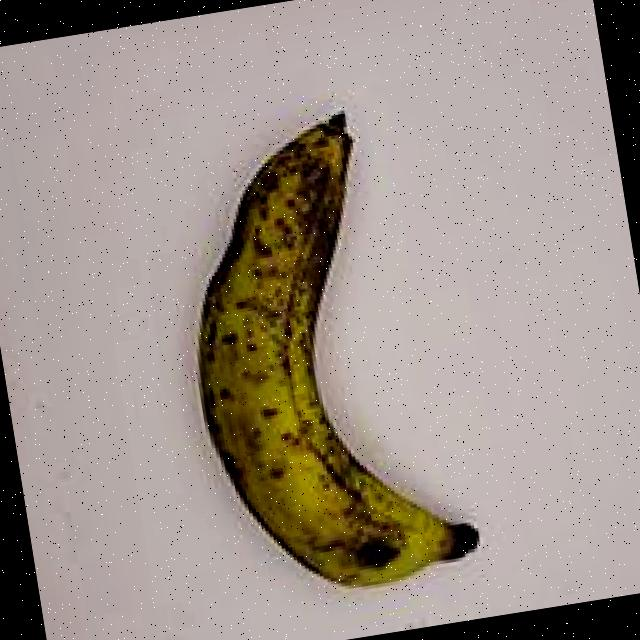Overripe: (97, 81, 536, 640)
